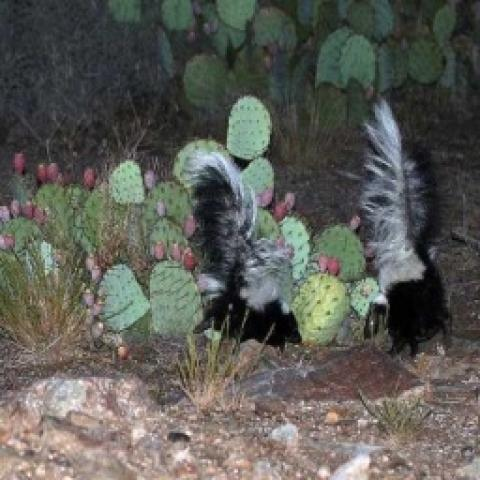small_animal: (360, 101, 454, 352), (185, 150, 303, 346)
